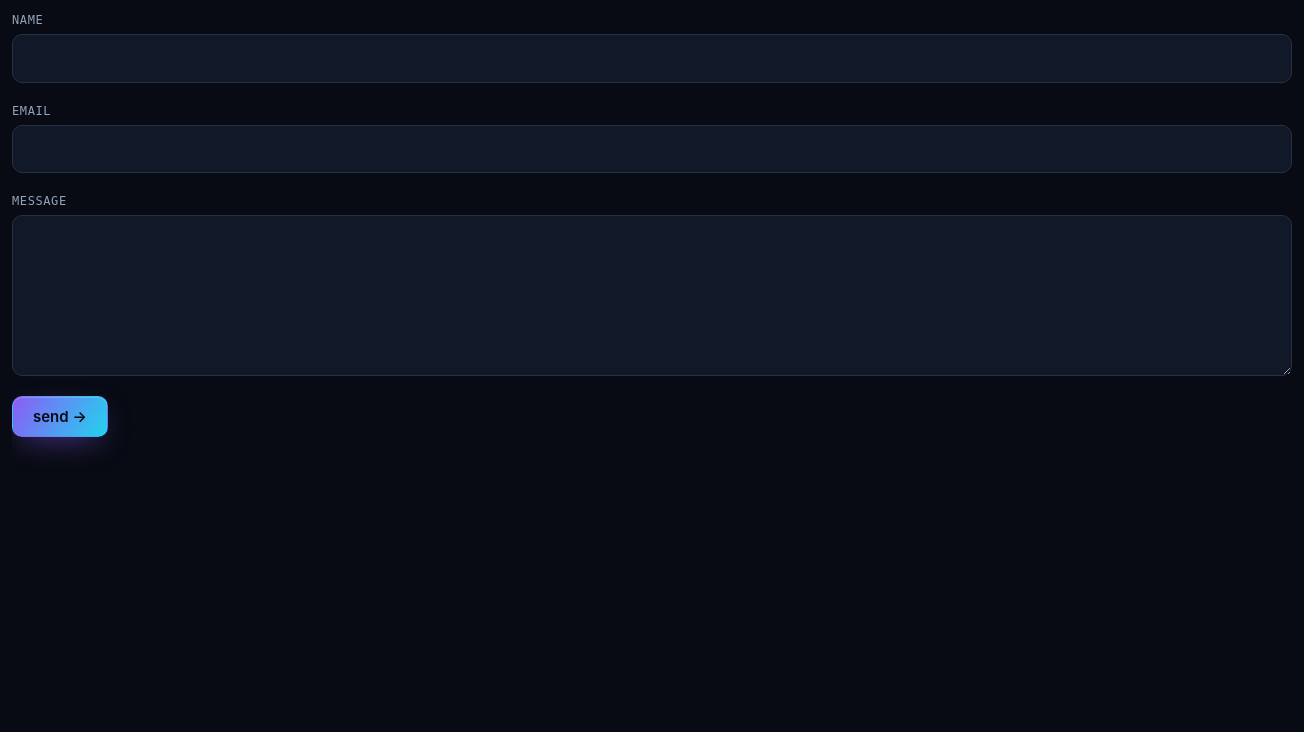
Test case: ContactForm › shows field-level errors on empty submit
This screenshot has width=1304, height=732.
Click the button "send →". click: {"x": 60, "y": 416}
box: [12,396,108,437]
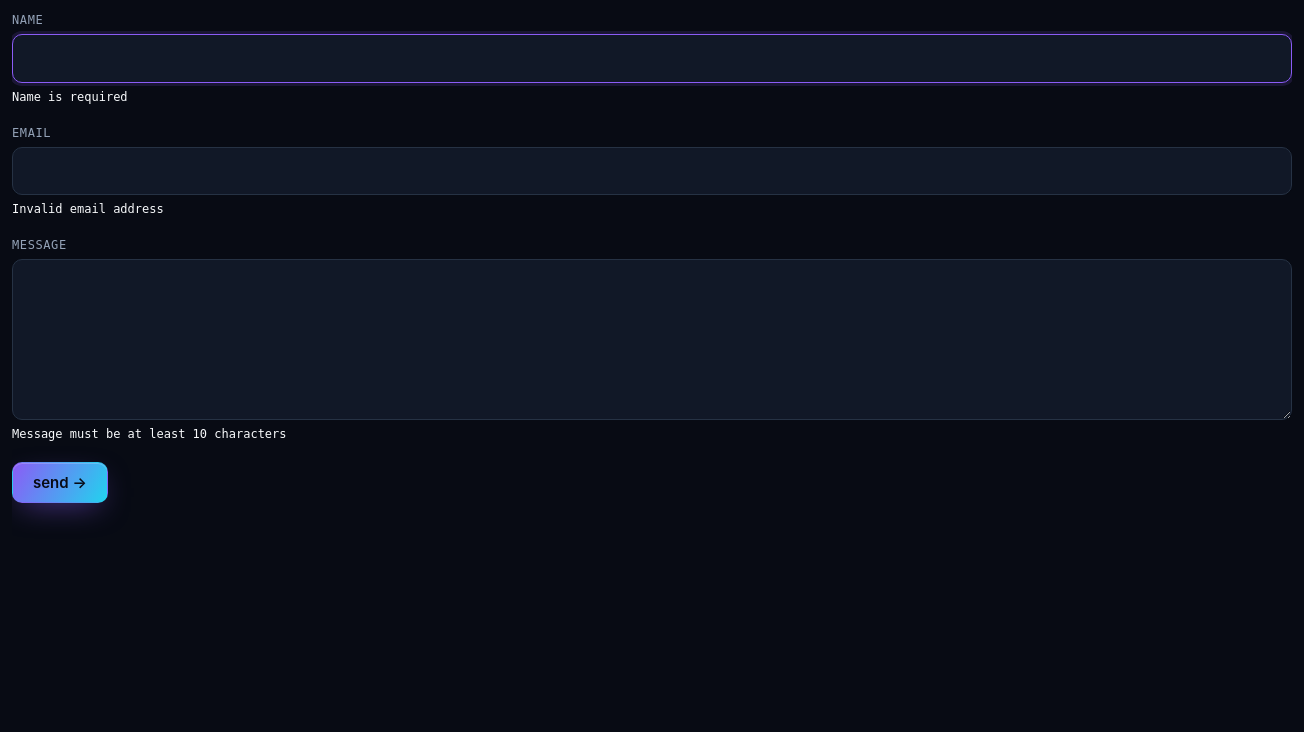
Now the text "Name is required" is shown, box [12,90,128,104]
Now the text "Invalid email address" is shown, box [12,202,164,216]
Now the text "Message must be at least 10 characters" is shown, box [12,427,286,441]
